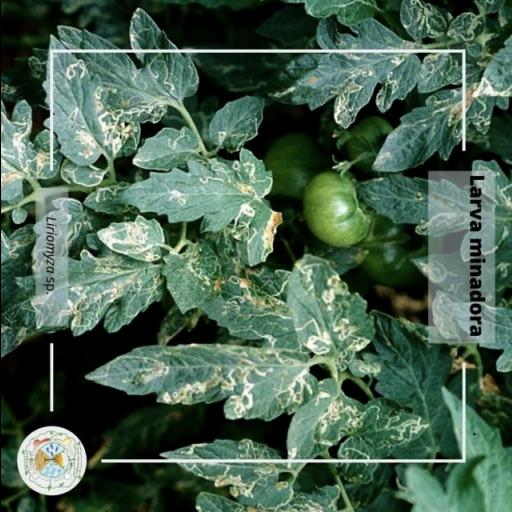disease_tomato: (83, 341, 319, 424), (114, 143, 272, 235), (282, 254, 374, 356), (52, 54, 126, 166), (286, 376, 366, 458), (160, 438, 282, 488), (160, 240, 222, 313), (94, 215, 168, 263), (208, 94, 264, 152), (130, 127, 200, 173)
